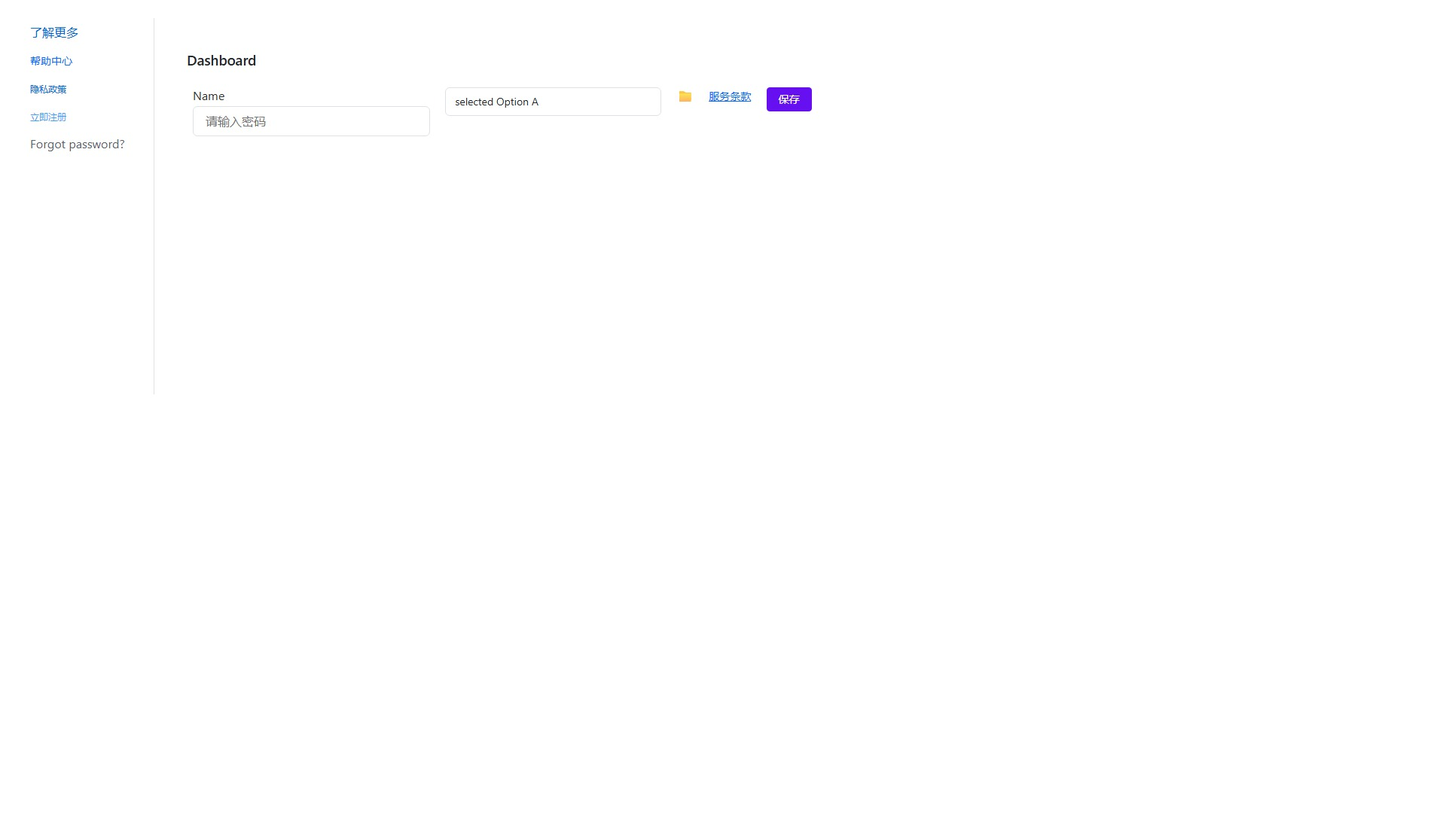button: (766, 87, 812, 111)
icon: (677, 89, 693, 101)
input: (193, 106, 430, 136)
link: (30, 136, 125, 151), (30, 24, 78, 40), (30, 53, 72, 68), (709, 89, 751, 103), (30, 83, 66, 95), (30, 111, 66, 123)
select: (445, 87, 662, 116)
